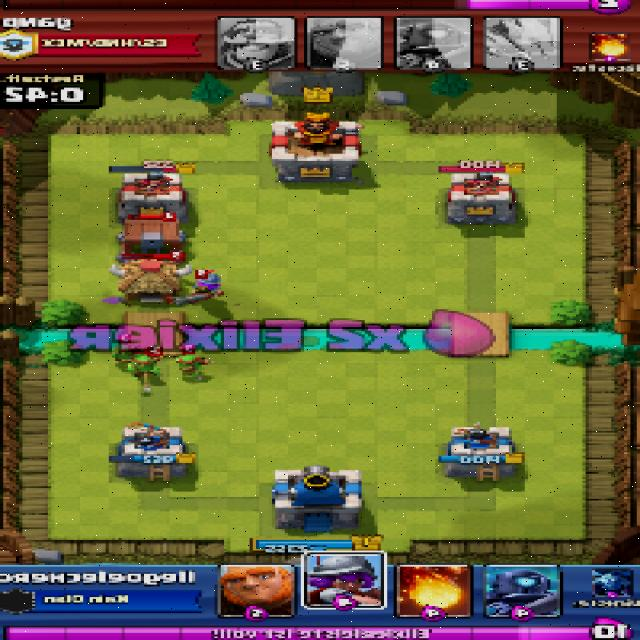Enemy-GoblinHut: (108, 258, 191, 306)
Enemy-Musketeer: (178, 272, 230, 303)
Enemy-SpearGoblin: (125, 353, 164, 376), (172, 355, 207, 380), (112, 346, 141, 366)
Player-GoblinCage: (118, 217, 192, 260)
